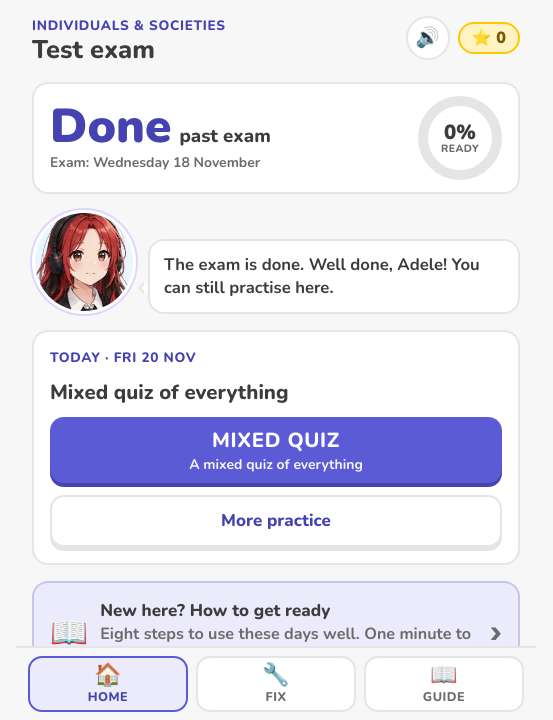
Test: reading a flashcard aloud › works quietly on a phone with no voice
The image size is (553, 720).
Click the button "More practice": [276, 521] box x1=50 y1=495 x2=502 y2=547
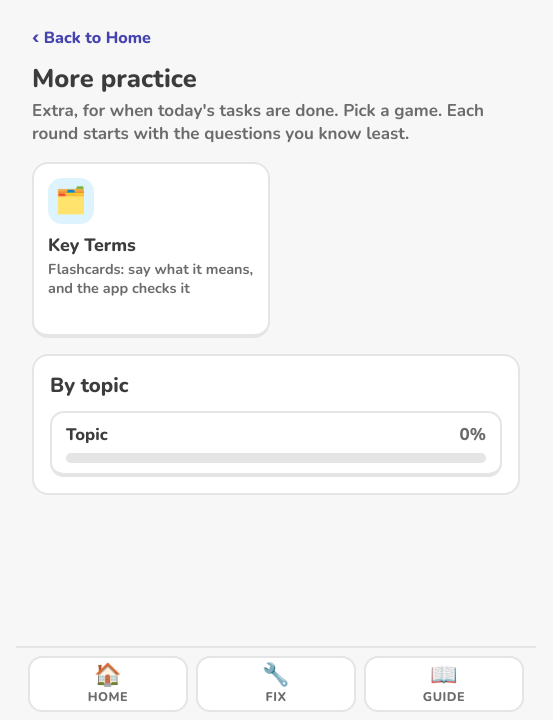
Click the button "Key Terms": [151, 250] box x1=32 y1=162 x2=270 y2=338
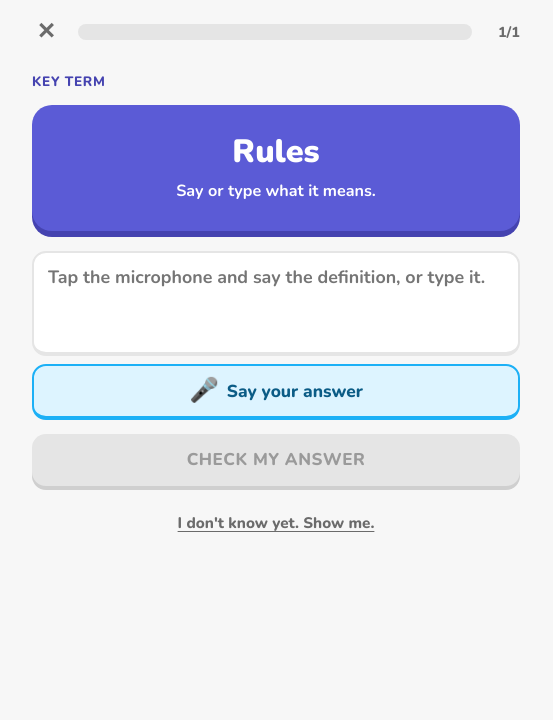
Click the button "I don't know yet. Show me.": [276, 524] box x1=162 y1=500 x2=390 y2=548
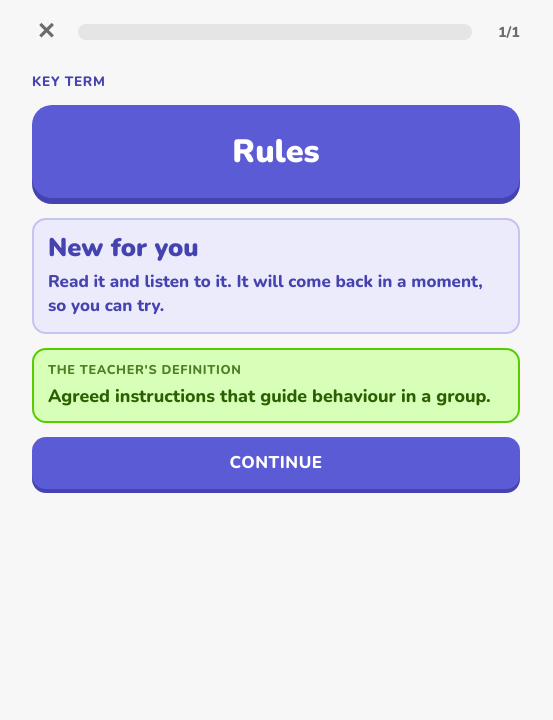
Check: the text "Agreed instructions that guide behaviour in a group." is shown, box x1=48 y1=384 x2=491 y2=408
